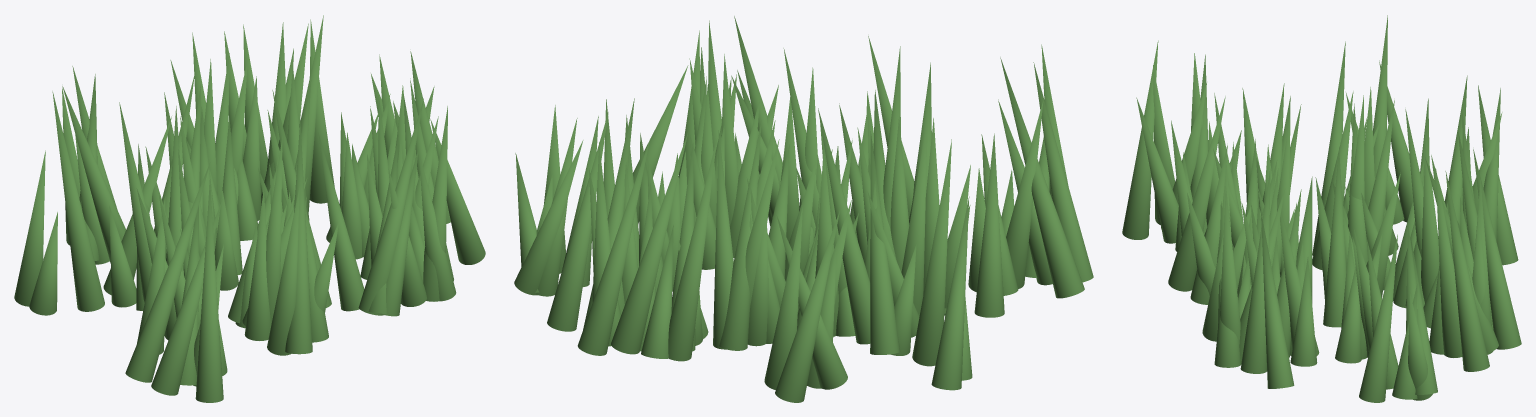
The model's file is Grass patch.fbx.
3 views of the same model, side by side, from view 1: azimuth 30°, elevation 25°; view 2: azimuth 150°, elevation 25°; view 3: azimuth 270°, elevation 25° (orthographic). The views are drawn at different scales.
Visible parts, largest first — view 1: Grass_Cluster_10_Blade_2, Grass_Cluster_8_Blade_2, Grass_Cluster_2_Blade_2, Grass_Cluster_2_Blade_1, Grass_Cluster_3_Blade_4, Grass_Cluster_6_Blade_3, Grass_Cluster_17_Blade_3, Grass_Cluster_3_Blade_1, Grass_Cluster_18_Blade_1, Grass_Cluster_8_Blade_0, Grass_Cluster_20_Blade_3, Grass_Cluster_23_Blade_2 (+65 smaller); view 2: Grass_Cluster_10_Blade_2, Grass_Cluster_22_Blade_1, Grass_Cluster_22_Blade_2, Grass_Cluster_8_Blade_2, Grass_Cluster_11_Blade_2, Grass_Cluster_14_Blade_2, Grass_Cluster_21_Blade_4, Grass_Cluster_7_Blade_2, Grass_Cluster_20_Blade_4, Grass_Cluster_8_Blade_0, Grass_Cluster_15_Blade_1, Grass_Cluster_5_Blade_3 (+64 smaller); view 3: Grass_Cluster_14_Blade_2, Grass_Cluster_22_Blade_2, Grass_Cluster_2_Blade_2, Grass_Cluster_23_Blade_2, Grass_Cluster_3_Blade_4, Grass_Cluster_23_Blade_5, Grass_Cluster_12_Blade_5, Grass_Cluster_14_Blade_3, Grass_Cluster_1_Blade_0, Grass_Cluster_2_Blade_0, Grass_Cluster_11_Blade_3, Grass_Cluster_23_Blade_3 (+64 smaller).
Boxes of the visible parts, bbox=[...] form: Grass_Cluster_10_Blade_2: bbox=[125, 162, 210, 382]; Grass_Cluster_8_Blade_2: bbox=[52, 91, 104, 311]; Grass_Cluster_2_Blade_2: bbox=[195, 179, 223, 402]; Grass_Cluster_2_Blade_1: bbox=[151, 199, 222, 395]; Grass_Cluster_3_Blade_4: bbox=[285, 120, 312, 354]; Grass_Cluster_6_Blade_3: bbox=[358, 99, 423, 315]; Grass_Cluster_17_Blade_3: bbox=[318, 132, 364, 311]; Grass_Cluster_3_Blade_1: bbox=[267, 187, 299, 355]; Grass_Cluster_18_Blade_1: bbox=[244, 188, 271, 340]; Grass_Cluster_8_Blade_0: bbox=[14, 150, 45, 306]; Grass_Cluster_20_Blade_3: bbox=[62, 86, 125, 262]; Grass_Cluster_23_Blade_2: bbox=[430, 119, 485, 264]; Grass_Cluster_10_Blade_2: bbox=[1000, 57, 1084, 298]; Grass_Cluster_22_Blade_1: bbox=[611, 133, 687, 354]; Grass_Cluster_22_Blade_2: bbox=[577, 140, 649, 355]; Grass_Cluster_8_Blade_2: bbox=[912, 139, 951, 366]; Grass_Cluster_11_Blade_2: bbox=[668, 138, 717, 361]; Grass_Cluster_14_Blade_2: bbox=[547, 112, 608, 331]; Grass_Cluster_21_Blade_4: bbox=[870, 131, 900, 354]; Grass_Cluster_7_Blade_2: bbox=[818, 108, 870, 344]; Grass_Cluster_20_Blade_4: bbox=[775, 211, 839, 402]; Grass_Cluster_8_Blade_0: bbox=[931, 196, 969, 390]; Grass_Cluster_15_Blade_1: bbox=[719, 120, 761, 350]; Grass_Cluster_5_Blade_3: bbox=[974, 133, 1004, 317]; Grass_Cluster_14_Blade_2: bbox=[1445, 171, 1489, 371]; Grass_Cluster_22_Blade_2: bbox=[1473, 149, 1521, 349]; Grass_Cluster_2_Blade_2: bbox=[1122, 40, 1158, 239]; Grass_Cluster_23_Blade_2: bbox=[1261, 214, 1294, 388]; Grass_Cluster_3_Blade_4: bbox=[1168, 96, 1225, 291]; Grass_Cluster_23_Blade_5: bbox=[1240, 169, 1270, 373]; Grass_Cluster_12_Blade_5: bbox=[1359, 234, 1397, 402]; Grass_Cluster_14_Blade_3: bbox=[1435, 168, 1462, 357]; Grass_Cluster_1_Blade_0: bbox=[1323, 147, 1346, 327]; Grass_Cluster_2_Blade_0: bbox=[1136, 97, 1178, 243]; Grass_Cluster_11_Blade_3: bbox=[1421, 132, 1439, 303]; Grass_Cluster_23_Blade_3: bbox=[1220, 186, 1240, 344].
Size of the model in its own units: 137 by 69.42 by 119.
